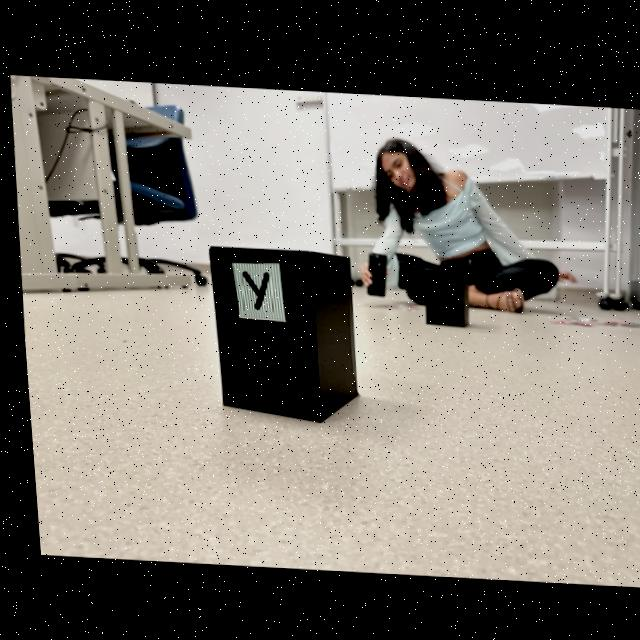Y: (238, 270, 267, 309)
